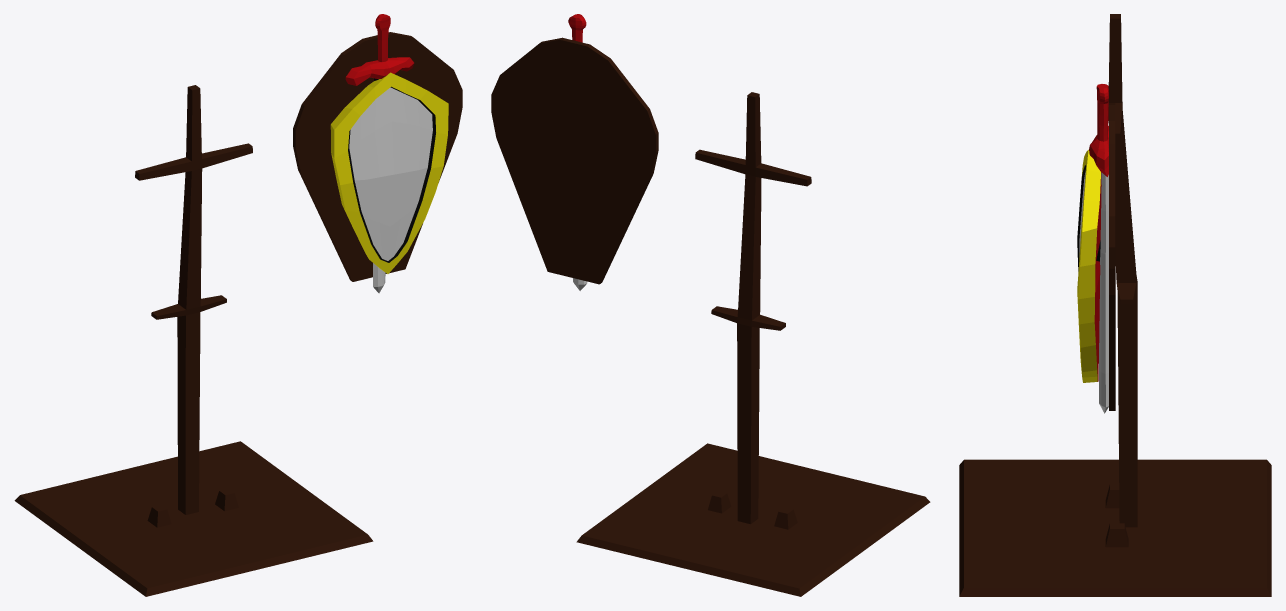
The model's file is V_Medieval09_Apoios.fbx.
The picture shows the model from 3 angles, left to right: view 1: azimuth 30°, elevation 25°; view 2: azimuth 150°, elevation 25°; view 3: azimuth 270°, elevation 25°; orthographic projection. The views are drawn at different scales.
Parts seen in each view (by area): view 1: Plane, Escudera, Plane.001, Espedaum; view 2: Plane, Plane.001; view 3: Plane, Escudera, Espedaum, Plane.001.
Part boxes in pixels (x1=…): Plane: x1=14, y1=85, x2=373, y2=596; Escudera: x1=330, y1=72, x2=448, y2=273; Plane.001: x1=293, y1=32, x2=462, y2=281; Espedaum: x1=345, y1=14, x2=414, y2=293; Plane: x1=576, y1=92, x2=930, y2=596; Plane.001: x1=491, y1=37, x2=658, y2=284; Plane: x1=959, y1=14, x2=1271, y2=596; Escudera: x1=1077, y1=149, x2=1101, y2=382; Espedaum: x1=1089, y1=84, x2=1108, y2=413; Plane.001: x1=1109, y1=103, x2=1115, y2=410.
Size of the model in its own units: 167 by 195 by 100.
